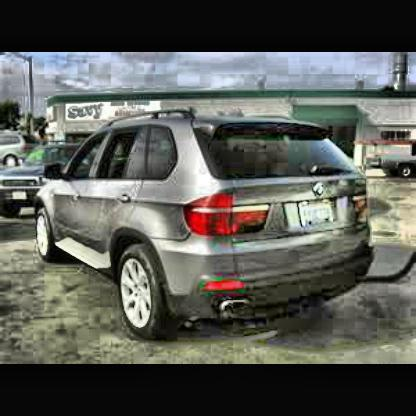BMW X5 SUV 2007: (35, 108, 373, 342)
